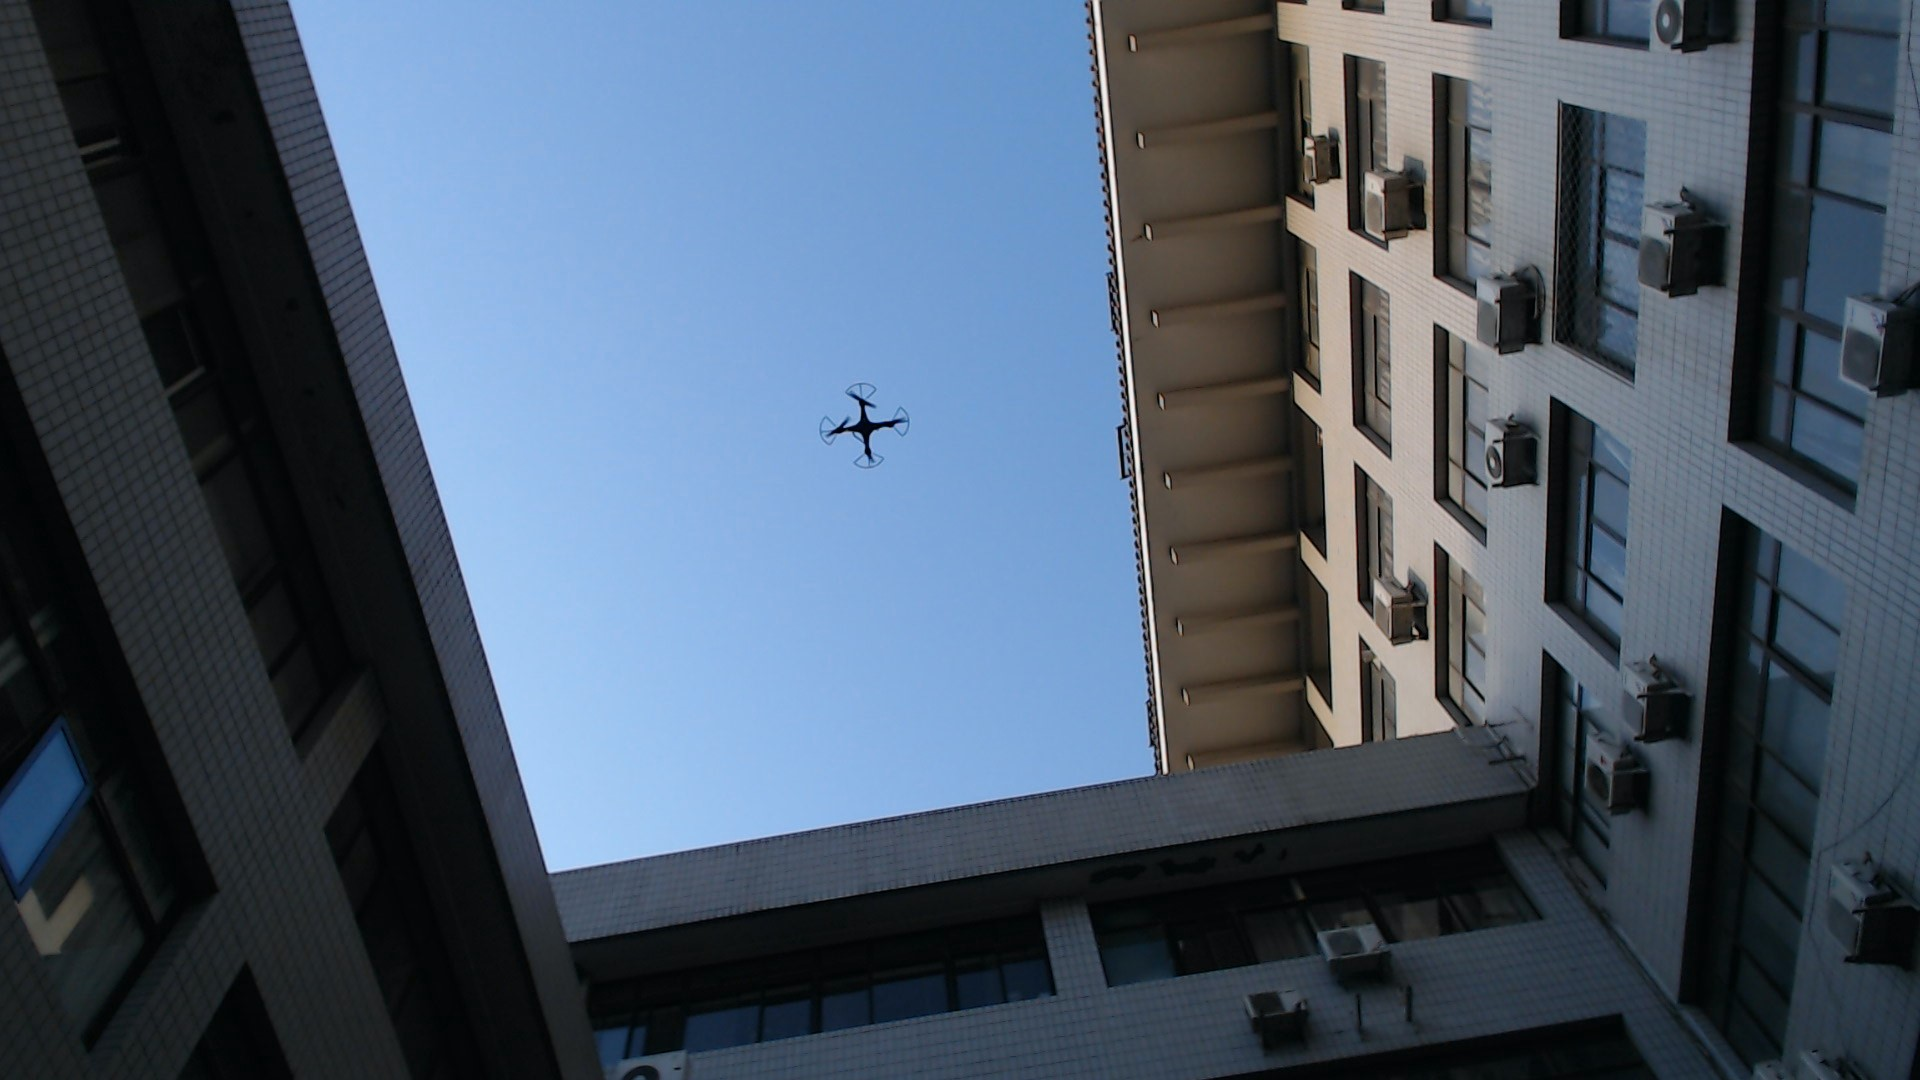drone: (795, 375, 939, 469)
